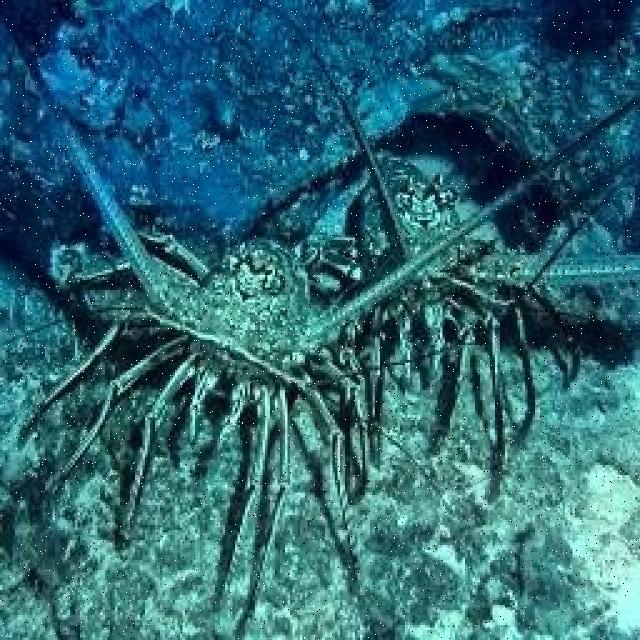fish: (41, 104, 637, 635), (289, 92, 638, 484)
